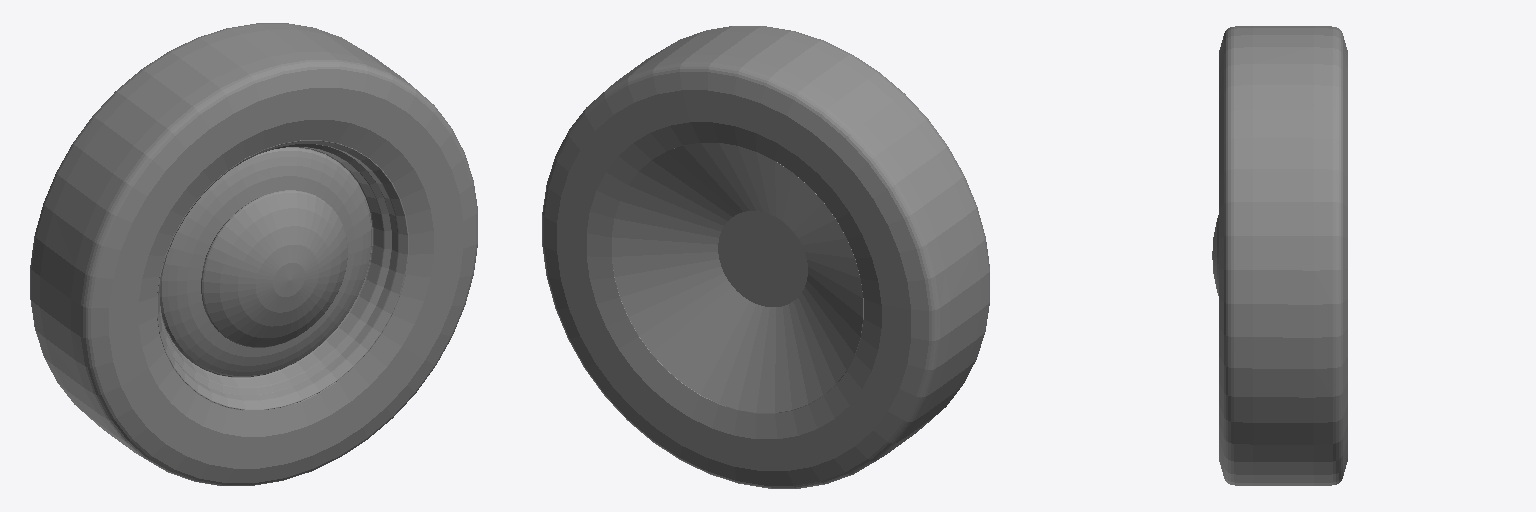
Rendered from VLlTIz.obj.
3 views of the same model, side by side, from view 1: azimuth 30°, elevation 25°; view 2: azimuth 150°, elevation 25°; view 3: azimuth 270°, elevation 25° (orthographic).
Parts seen in each view (by area): view 1: LlantaTrIz; view 2: LlantaTrIz; view 3: LlantaTrIz.
Part boxes in pixels (x1,y1,x2,y2): LlantaTrIz: (30,23,477,485); LlantaTrIz: (542,26,989,488); LlantaTrIz: (1212,26,1347,485).
Bounding box in the file's own units: 7.28 × 7.3 × 2.15.